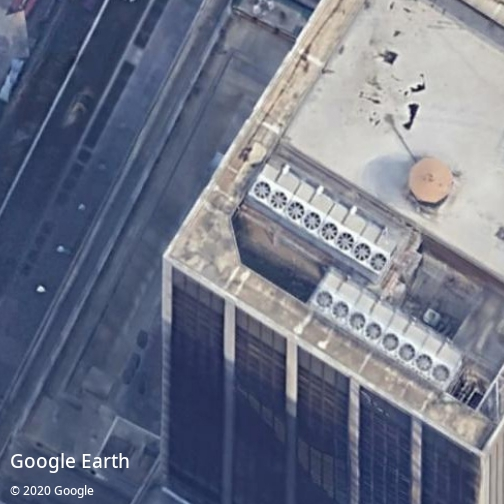Vent: (432, 363, 450, 381), (254, 181, 271, 199), (271, 190, 288, 208), (288, 201, 305, 219), (304, 211, 321, 229), (321, 222, 338, 240), (337, 232, 354, 250), (354, 242, 371, 260), (370, 252, 387, 270), (316, 290, 333, 308), (332, 300, 349, 318), (349, 311, 366, 329), (365, 322, 382, 340), (382, 332, 399, 350), (398, 343, 415, 361), (416, 353, 433, 371)
